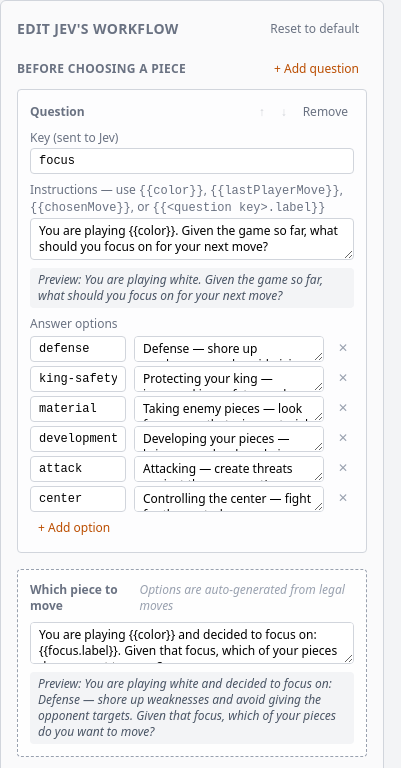
Test case: JevWorkflowEditor › slugifies and dedupes a question key on blur
The width and height of the screenshot is (401, 768).
Replace the text in the field showing "focus" with "My New Key!": {"x": 192, "y": 161} [30, 148, 354, 174]
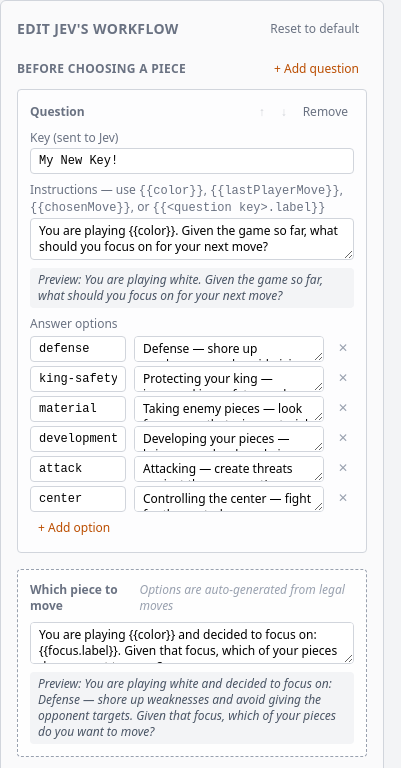
Leave the field showing "focus", box [30, 148, 354, 174]
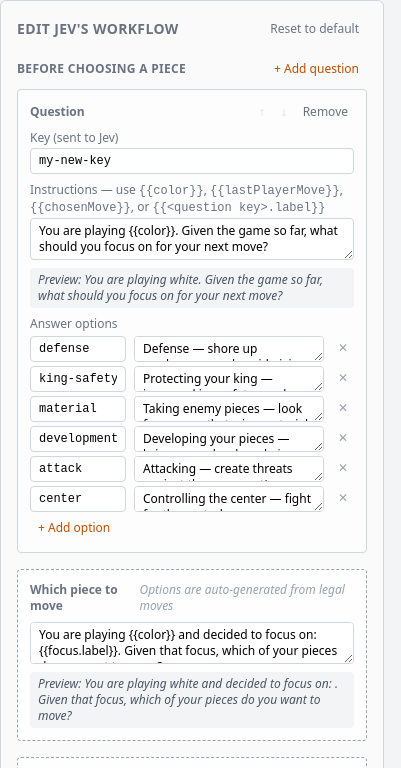
Now the field showing "my-new-key" is shown, box [30, 148, 354, 174]
